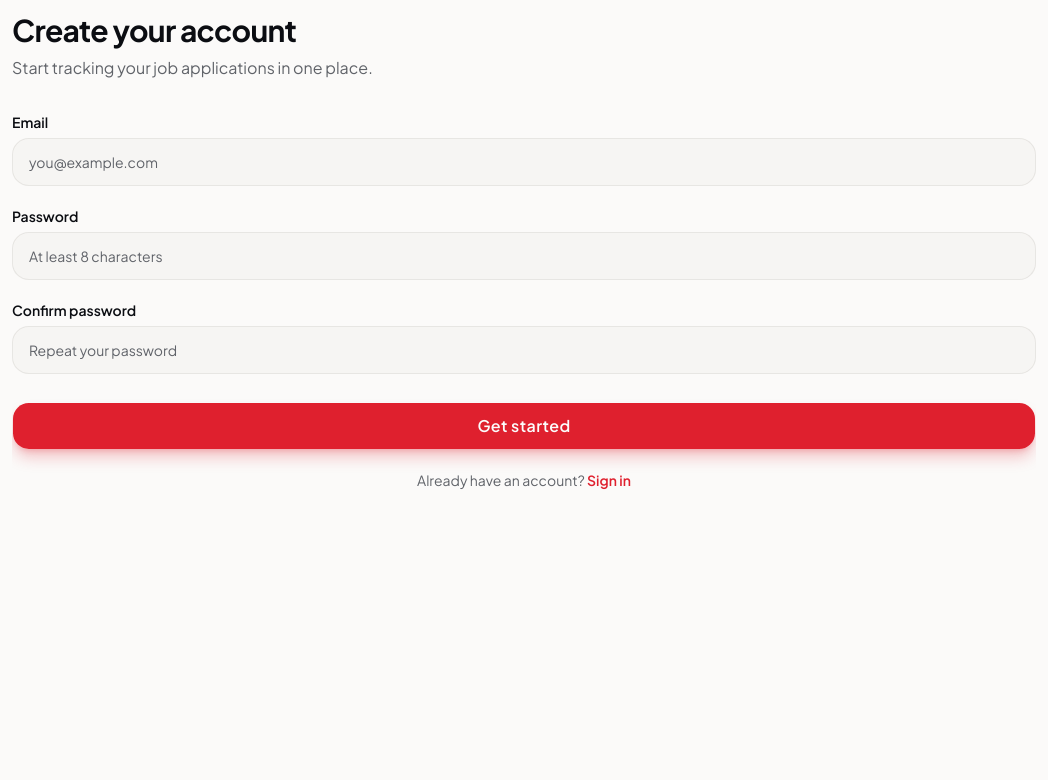
SignupForm › shows generic error on signup failure
Type "user@example.com" into the field labelled "Email" at (524, 162), box 12,138 -> 1036,186
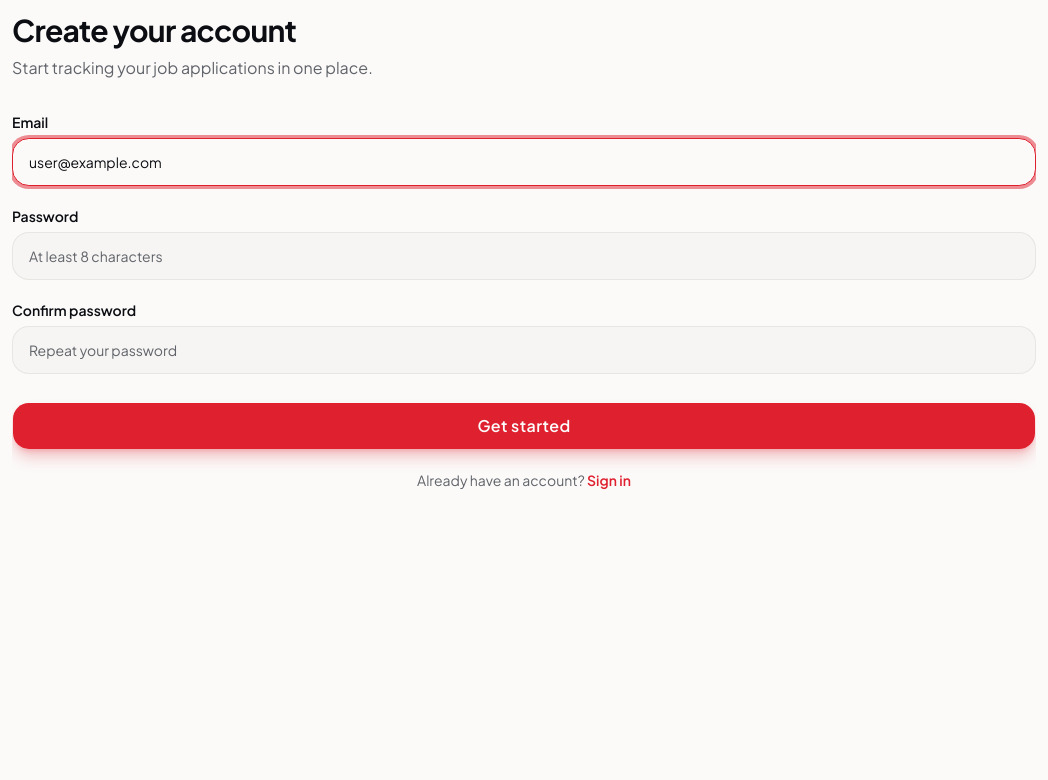
Type "password123" into the password field labelled "Password" at (524, 256), box 12,232 -> 1036,280
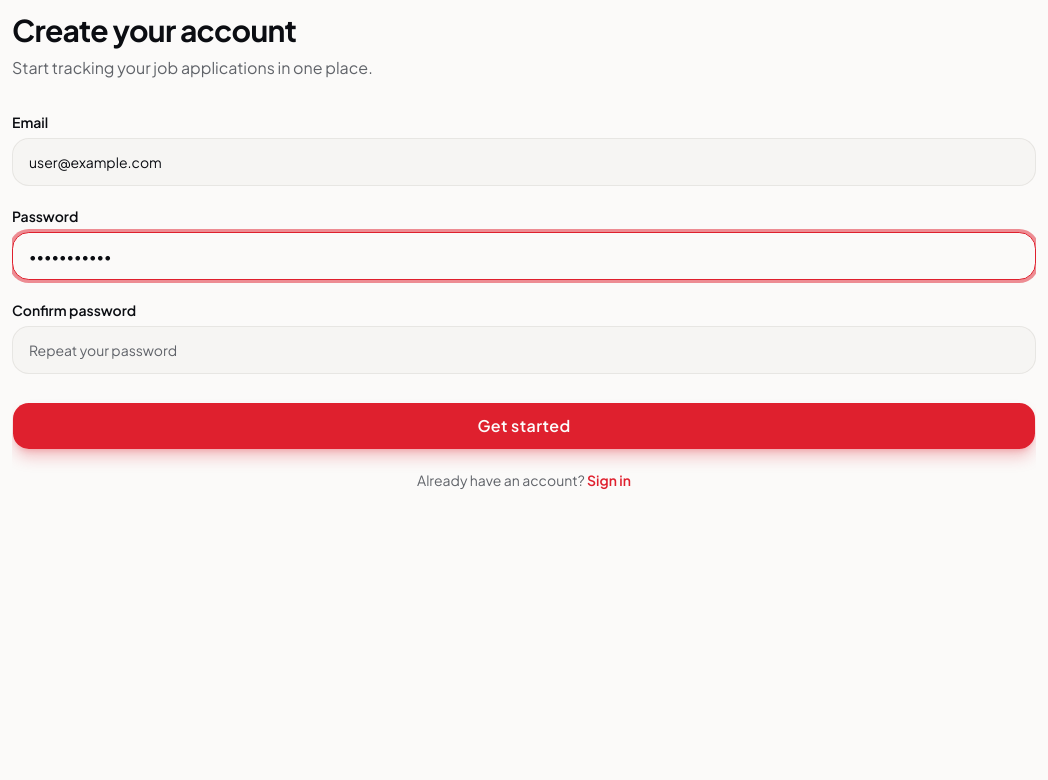
Type "password123" into the password field labelled "Confirm password" at (524, 350), box 12,326 -> 1036,374
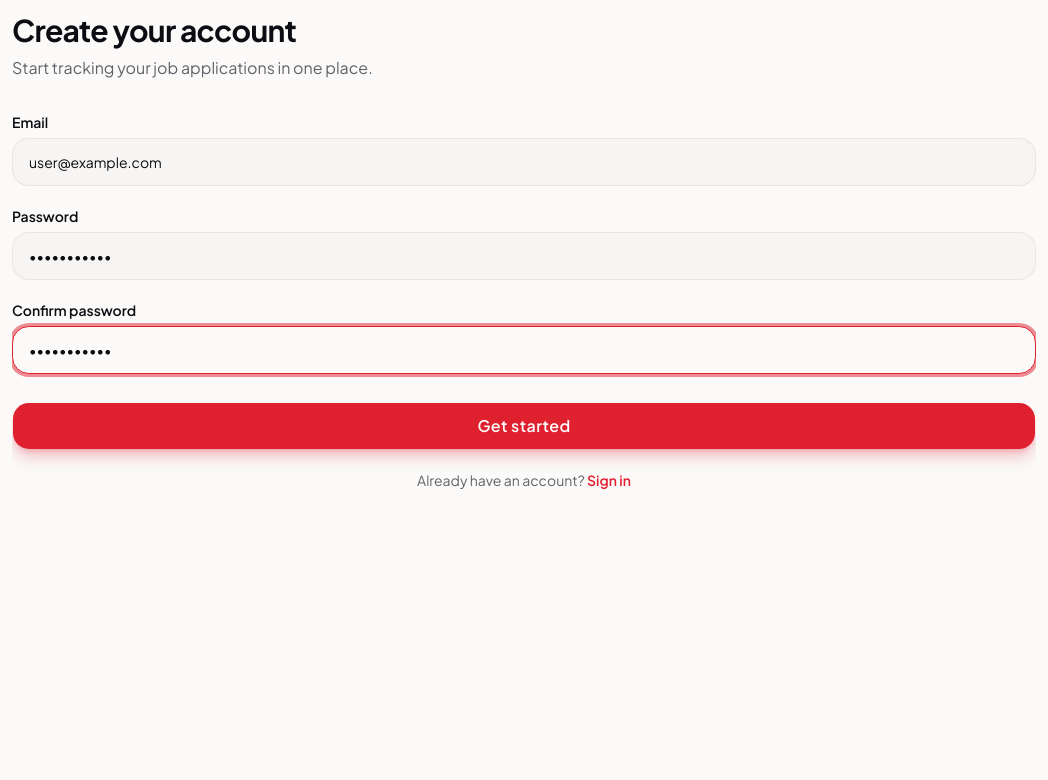
Click the button "Get started" at (524, 426), box 12,402 -> 1036,450
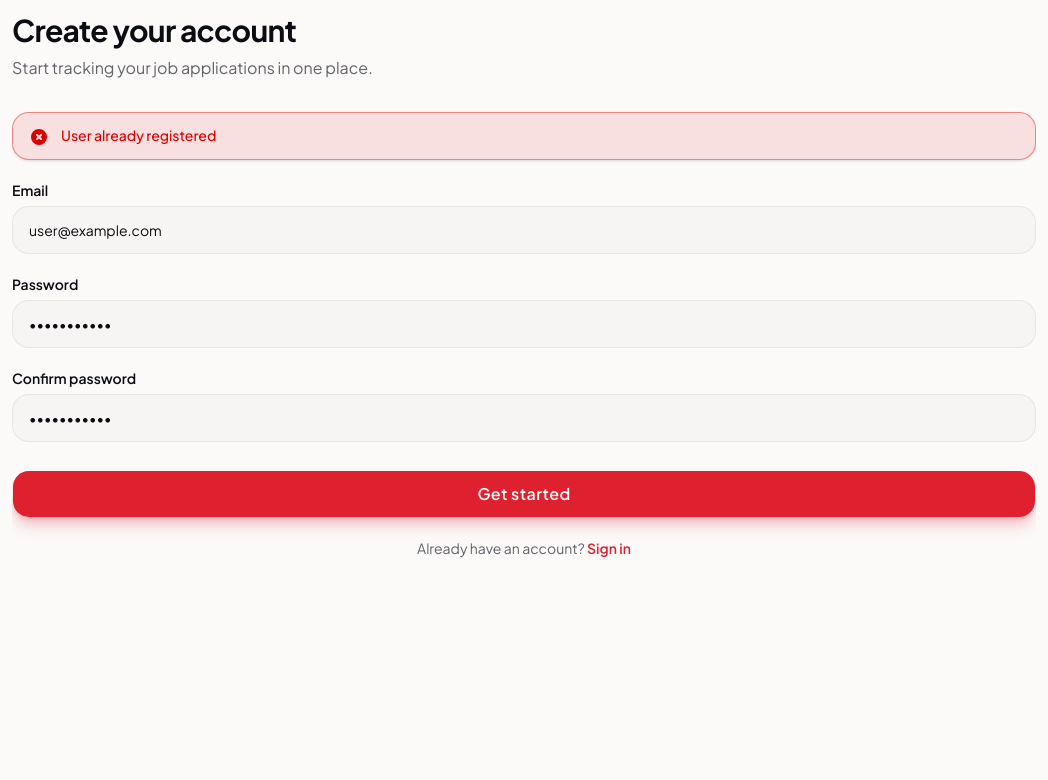
Now the text "User already registered" is shown, box 61,125 -> 216,145
